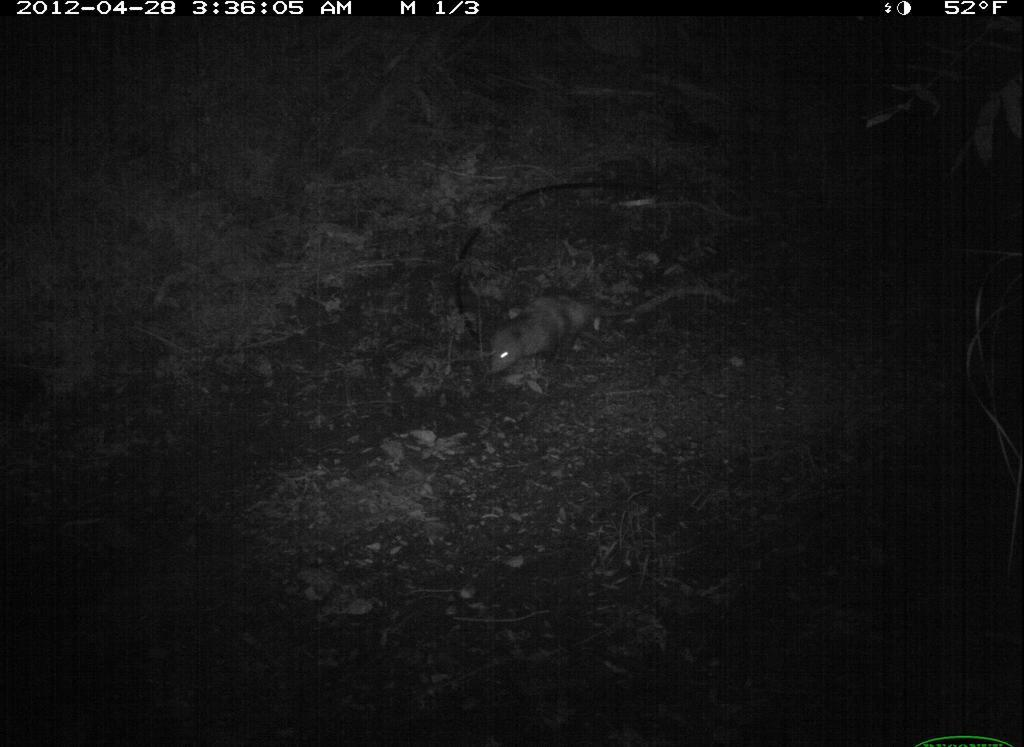opossum: (478, 289, 609, 390)
